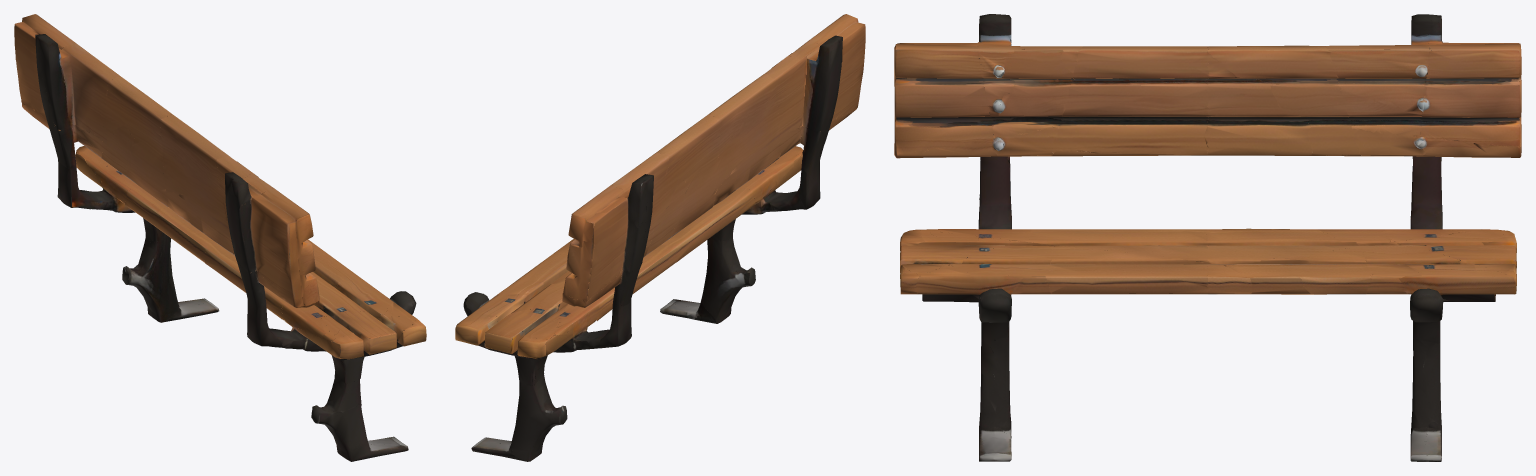
File: bench-tripo.glb
3 views of the same model, side by side, from view 1: azimuth 30°, elevation 25°; view 2: azimuth 150°, elevation 25°; view 3: azimuth 270°, elevation 25° (orthographic). The views are drawn at different scales.
Parts seen in each view (by area): view 1: tripo_node_397aebf2-a165-4cae-aa52-c3a8e0bec313; view 2: tripo_node_397aebf2-a165-4cae-aa52-c3a8e0bec313; view 3: tripo_node_397aebf2-a165-4cae-aa52-c3a8e0bec313.
Boxes of the visible parts, box(x1,y1,x2,y2) form: tripo_node_397aebf2-a165-4cae-aa52-c3a8e0bec313: box(14, 14, 426, 461); tripo_node_397aebf2-a165-4cae-aa52-c3a8e0bec313: box(455, 14, 865, 461); tripo_node_397aebf2-a165-4cae-aa52-c3a8e0bec313: box(894, 14, 1521, 461).
Size of the model in its own units: 0.3859 by 0.622 by 1.
Materials: 1 (1 with a texture image).
